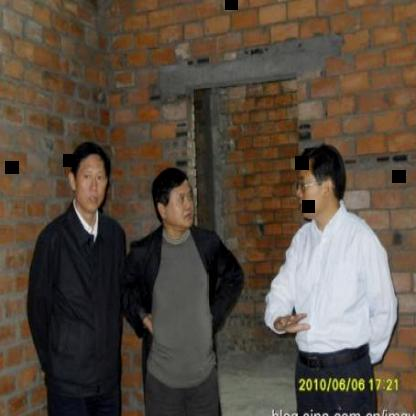head: (297, 141, 345, 224), (150, 161, 197, 235), (69, 141, 112, 213)
